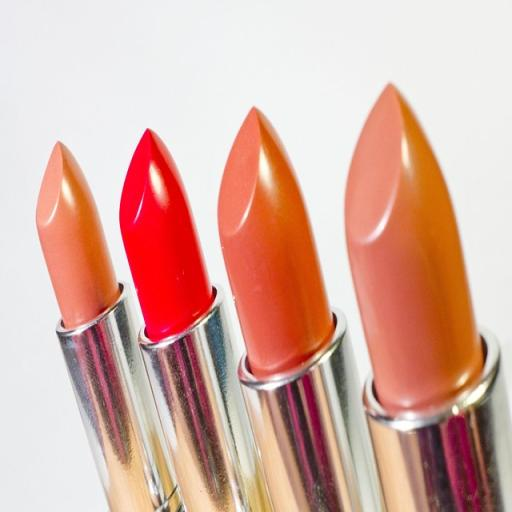lipstick: (346, 86, 511, 510), (219, 108, 379, 510), (120, 130, 269, 511), (36, 143, 181, 511)
